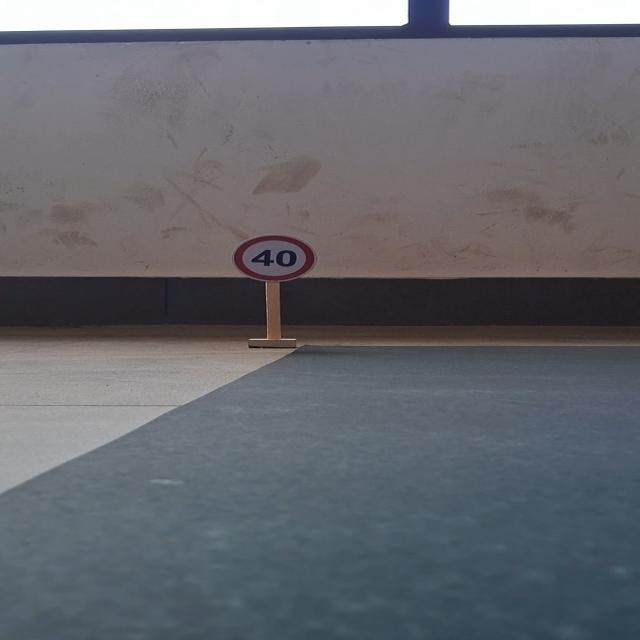Speed40: (230, 232, 320, 283)
